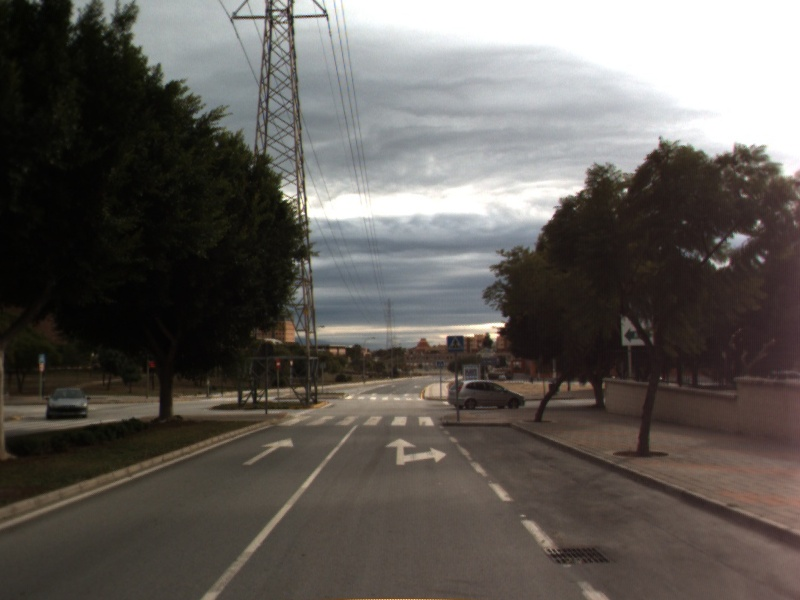STRAIGHT: (240, 435, 296, 467)
STRAIGHT_RIGHT: (383, 436, 449, 467)
